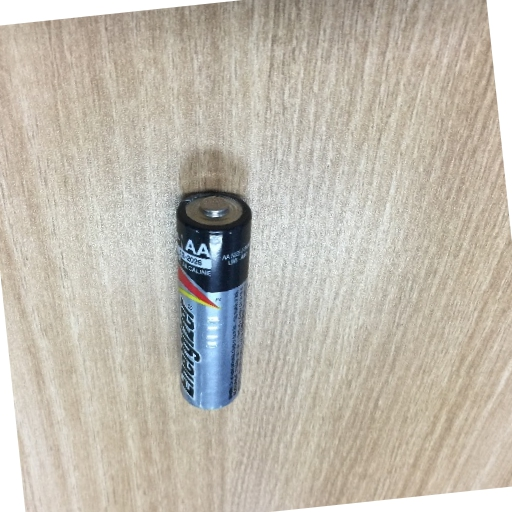Battery_0: (168, 180, 255, 418)
